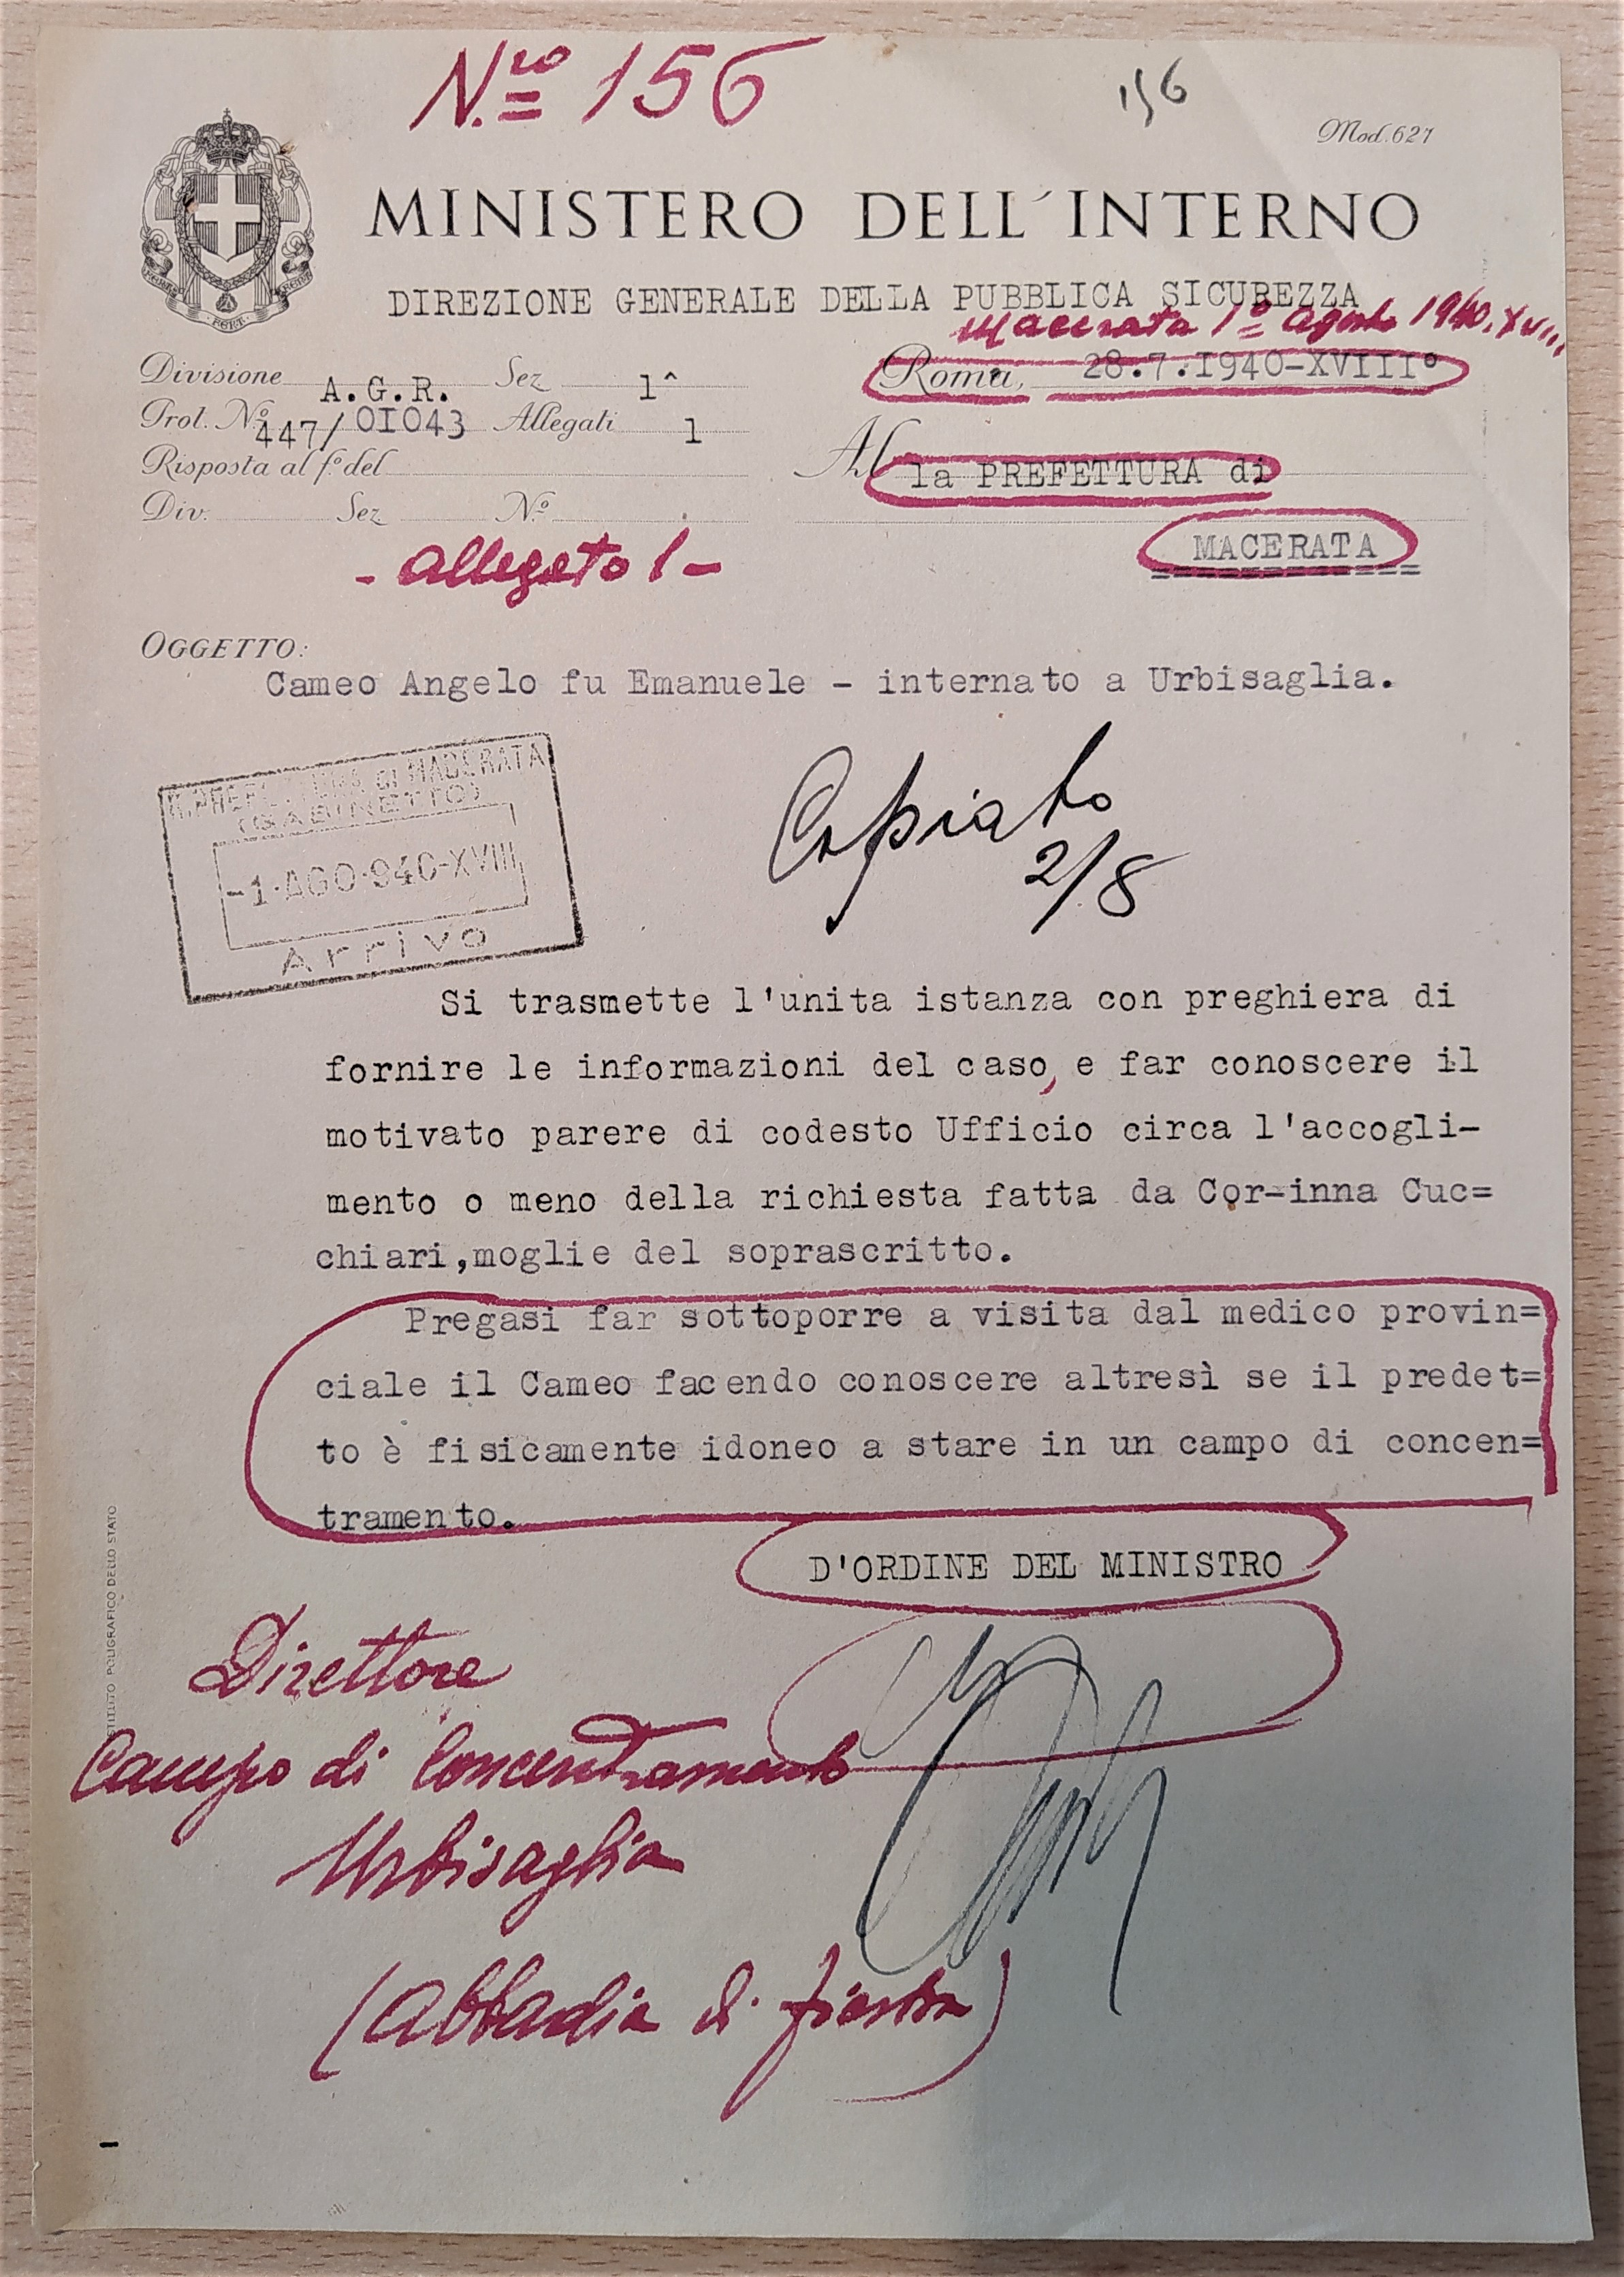stamp: (156, 733, 592, 1005)
